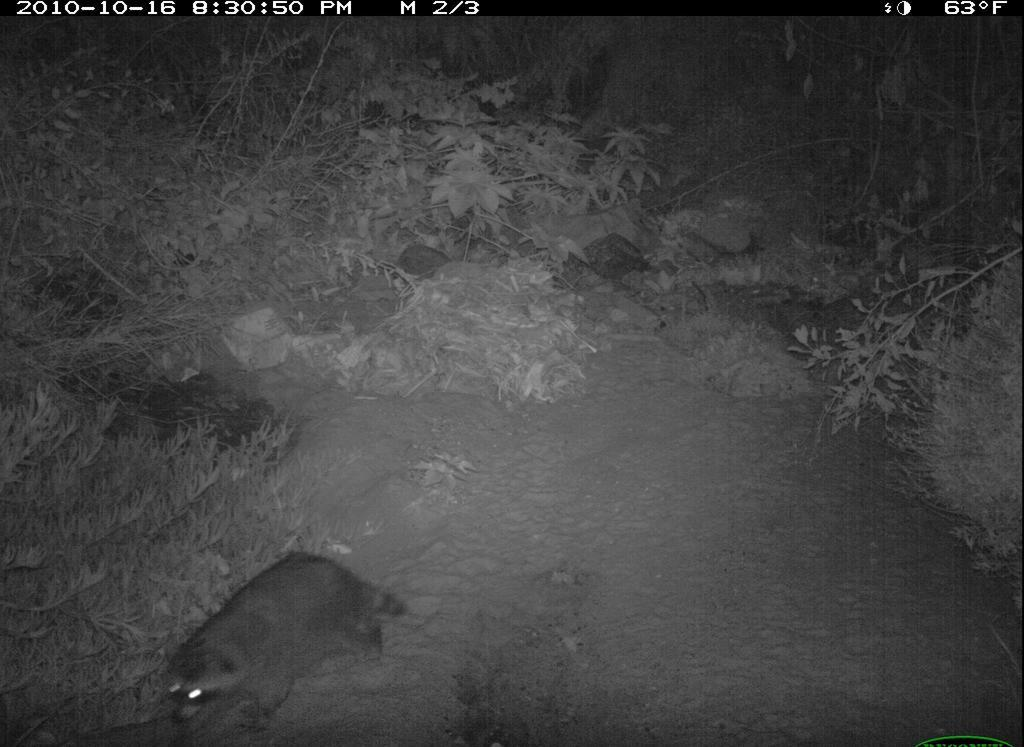raccoon: (146, 536, 433, 740)
